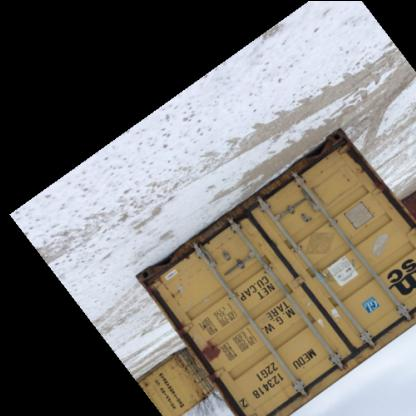Damage: (141, 251, 201, 291), (204, 205, 258, 241), (193, 338, 219, 372)
